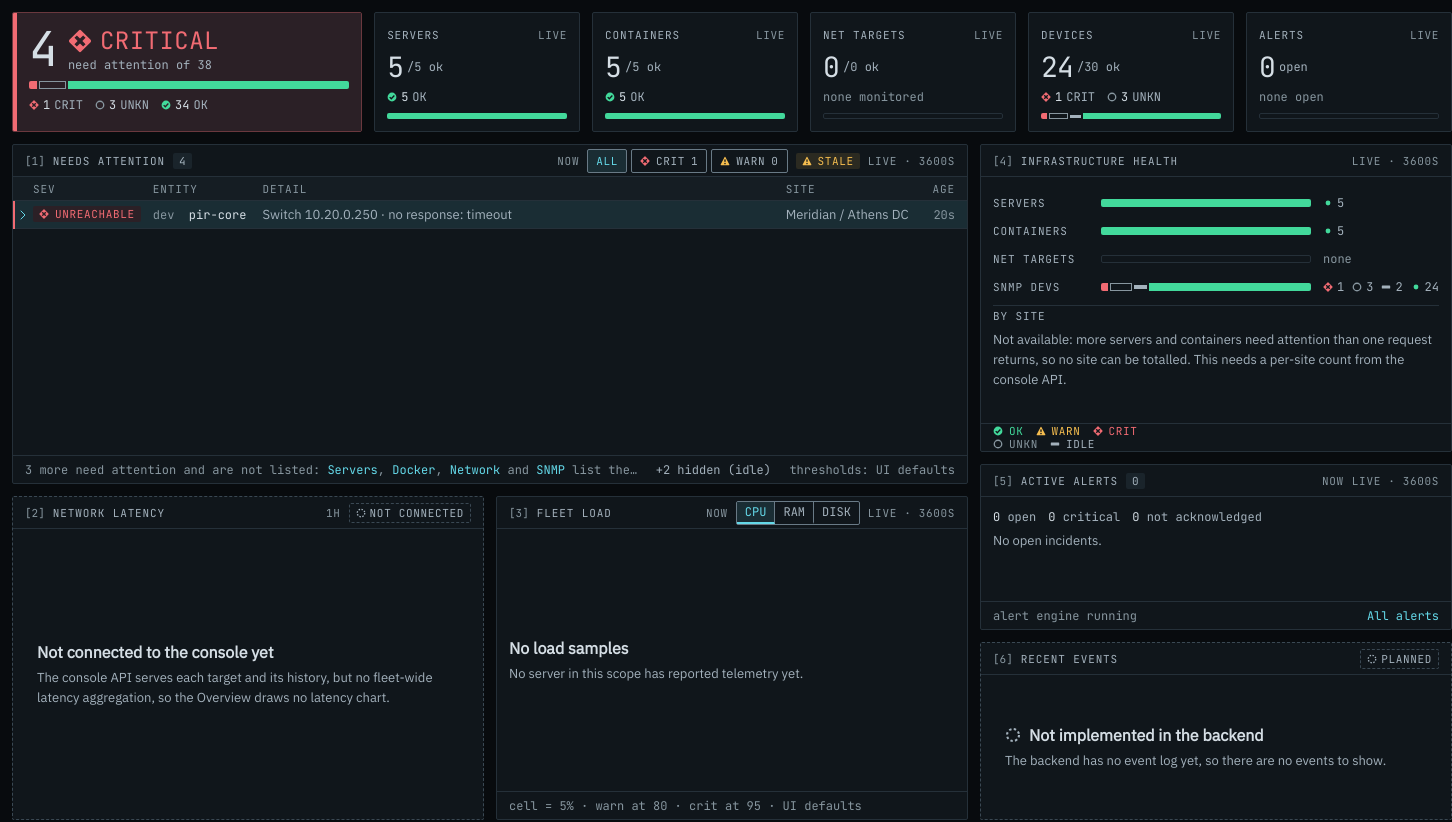
OverviewPage over the console API, with SNMP devices › shows the devices in the health panel, with the interfaces labelled partial while the rows are not all of them
Expected: the picture named "SNMP devices: 1 critical, 3 unknown, 2 idle, 24 ok" is shown, x1=1101 y1=283 x2=1311 y2=291
Click the list item "SNMP DEVS" at (1216,287), box x1=993 y1=279 x2=1439 y2=295
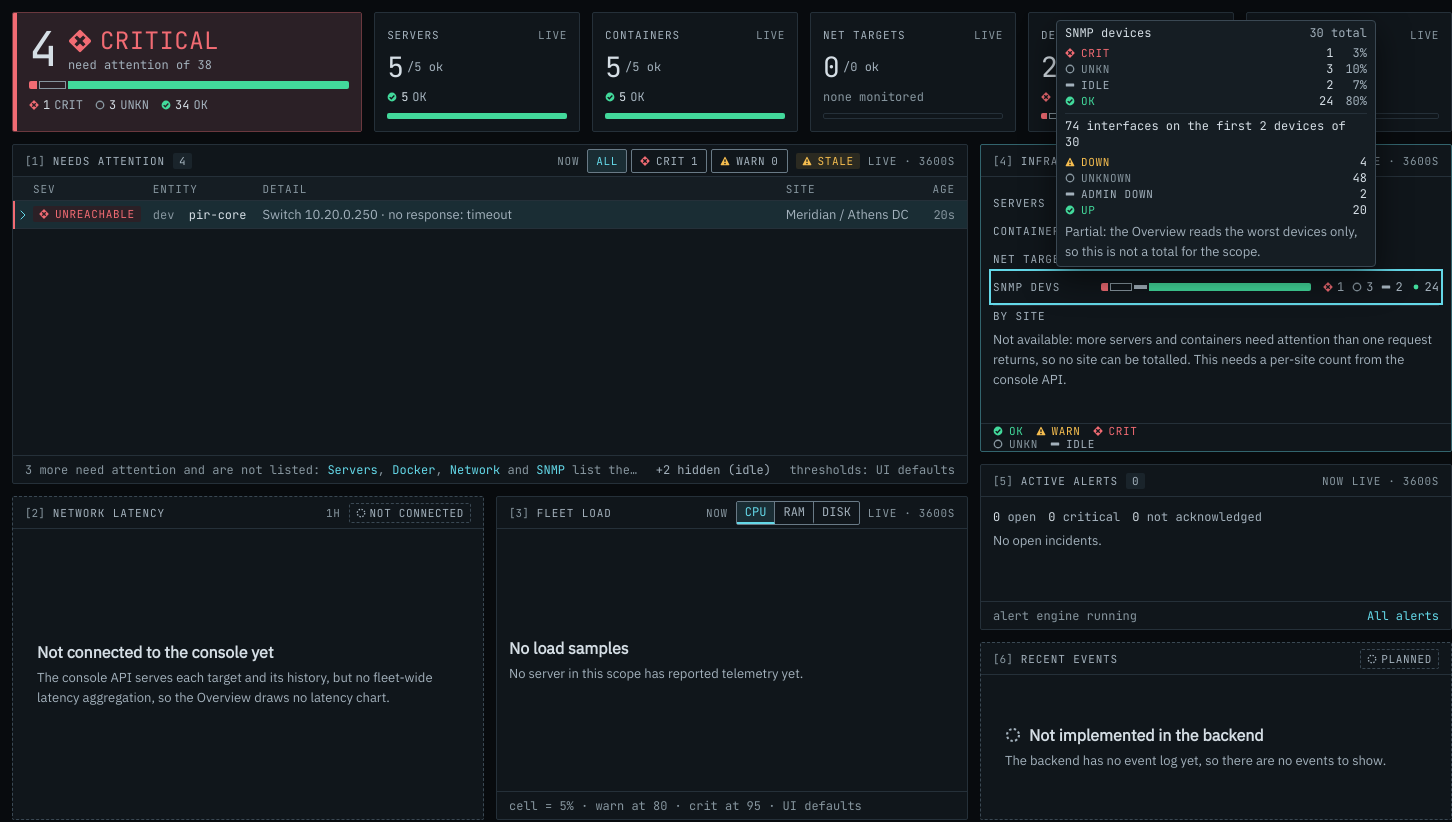
Expected: the tooltip shows "74 interfaces on the first 2 devices of 30", x1=1065 y1=118 x2=1346 y2=150
